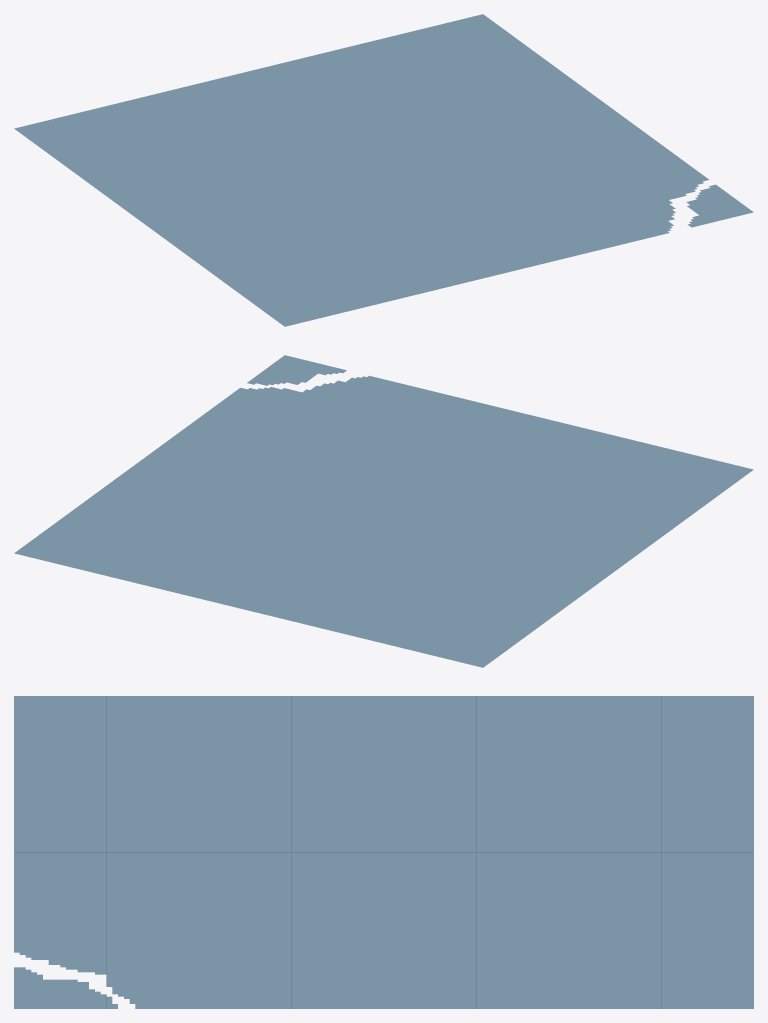
Rendered from chunk_5_0.glb.
3 renders of one model, top to bottom at view 1: azimuth 30°, elevation 25°; view 2: azimuth 150°, elevation 25°; view 3: azimuth 270°, elevation 25°, orthographic. The views are drawn at different scales.
Visible parts, largest first — view 1: Water_5_0; view 2: Water_5_0; view 3: Water_5_0.
Part boxes in pixels (x1,y1,x2,y2): Water_5_0: (14, 14, 753, 326); Water_5_0: (14, 355, 753, 667); Water_5_0: (14, 696, 753, 1008).
Bounding box in the file's own units: 2048 × 3.45e-05 × 2048.
